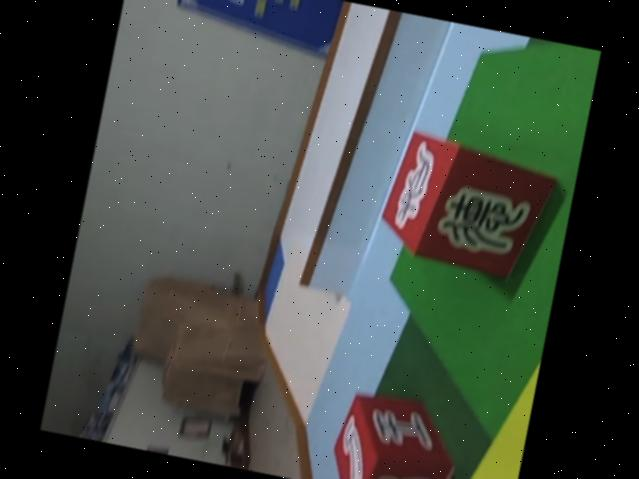R2 Fake: (373, 125, 564, 286), (321, 385, 466, 479)
